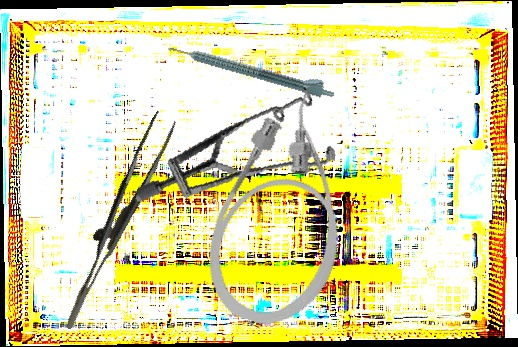Cannula: (188, 79, 384, 341)
Handpiece: (166, 35, 339, 102)
Speculum: (134, 57, 349, 241)
Tissue Forceps: (31, 110, 197, 330)
